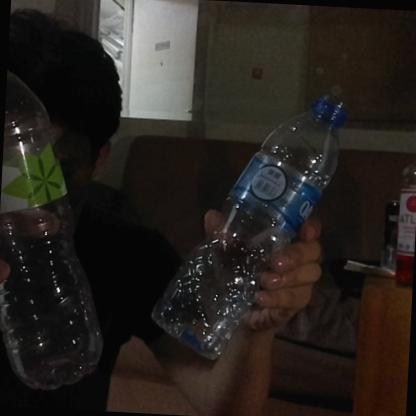plastic_bottles: (145, 82, 348, 364), (0, 70, 121, 396)
